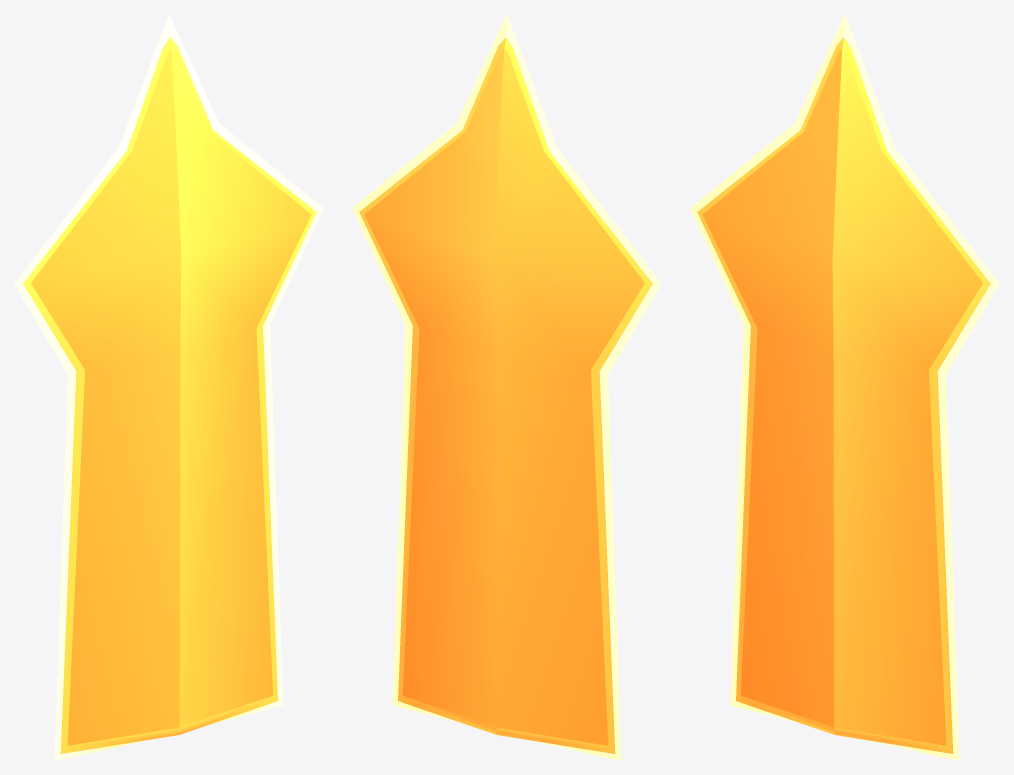
File: gold_blade (6).glb
3 views of the same model, side by side, from view 1: azimuth 30°, elevation 25°; view 2: azimuth 150°, elevation 25°; view 3: azimuth 330°, elevation 25° (orthographic).
Visible parts, largest first — view 1: gold_blade_steel.027; view 2: gold_blade_steel.027; view 3: gold_blade_steel.027.
Part boxes in pixels (x1,y1,x2,y2): gold_blade_steel.027: (14, 14, 323, 760); gold_blade_steel.027: (352, 14, 661, 760); gold_blade_steel.027: (690, 14, 999, 760).
Size of the model in its own units: 5.28 by 11.76 by 0.7262.
Materials: 1 (1 with a texture image).
